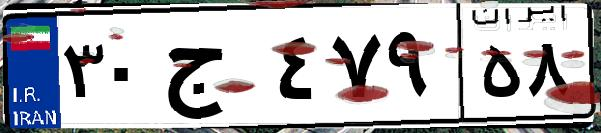0: (110, 28, 158, 98)
3: (57, 26, 110, 100)
4: (270, 28, 330, 110)
5: (475, 38, 525, 113)
7: (330, 28, 385, 110)
8: (525, 38, 570, 115)
9: (385, 28, 445, 110)
ج: (158, 20, 270, 120)
